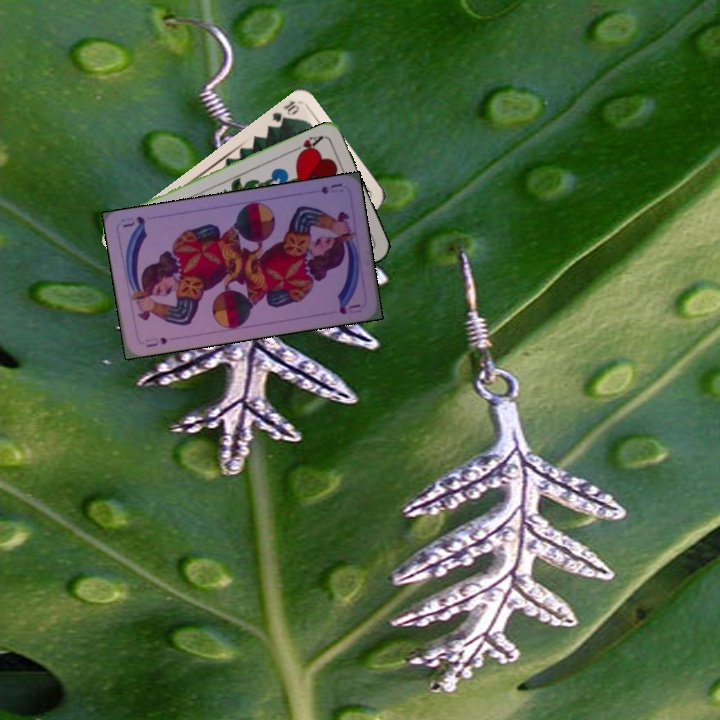G10: (268, 96, 302, 127)
HA: (288, 131, 327, 158)
SU: (317, 179, 346, 196), (142, 333, 170, 350)
